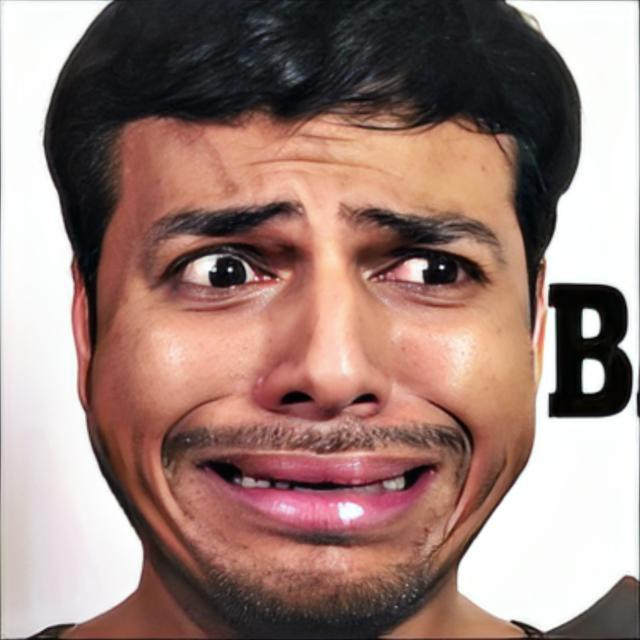Fear: (84, 92, 536, 640)
